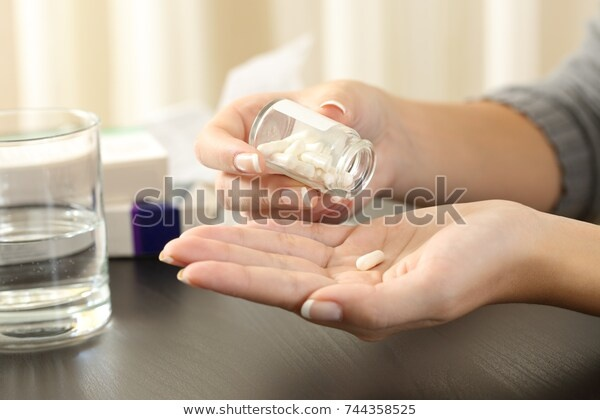pills: (353, 248, 385, 271)
